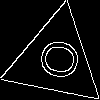O: (30, 35, 81, 83)
